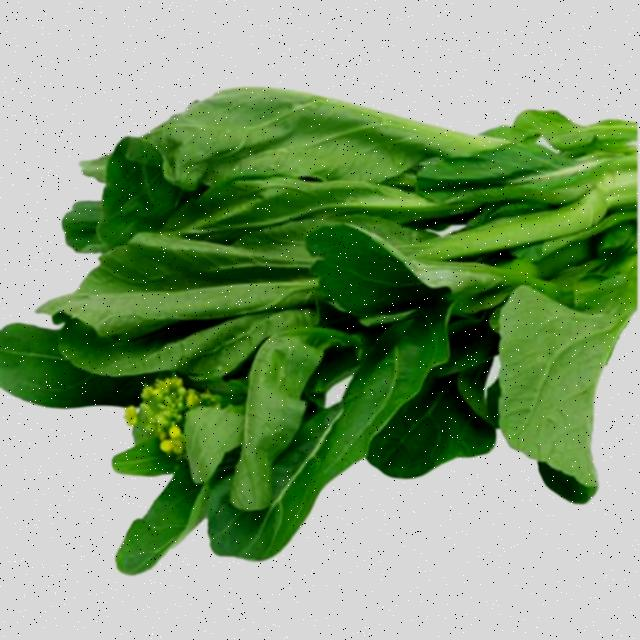NA: (22, 26, 640, 600)
